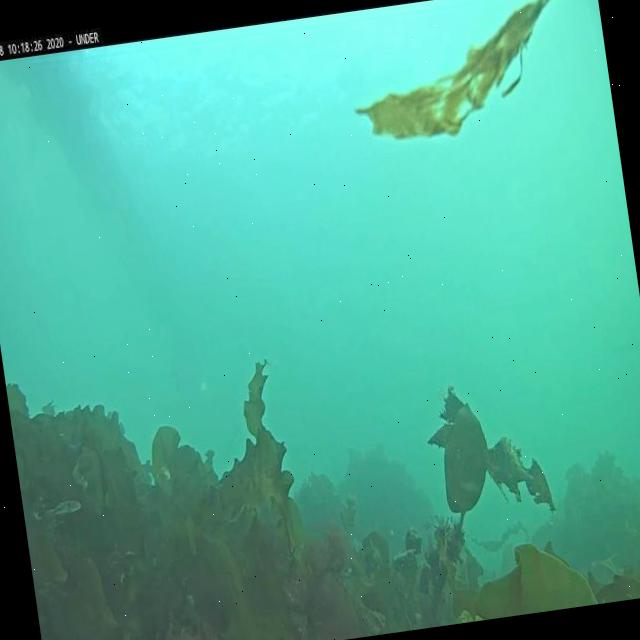fish: (45, 494, 84, 522)
